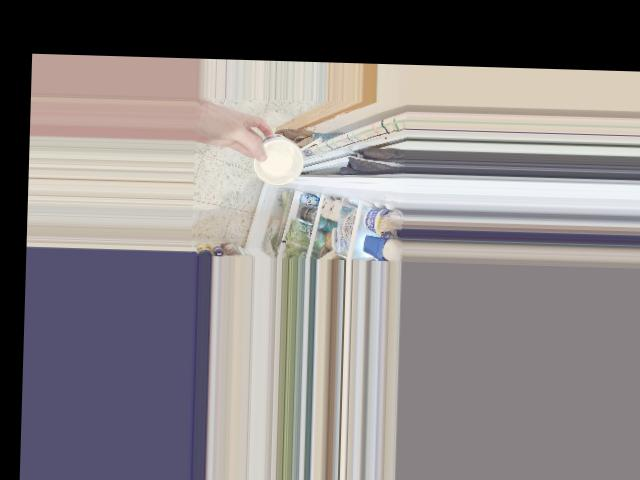cotage: (248, 130, 304, 181)
